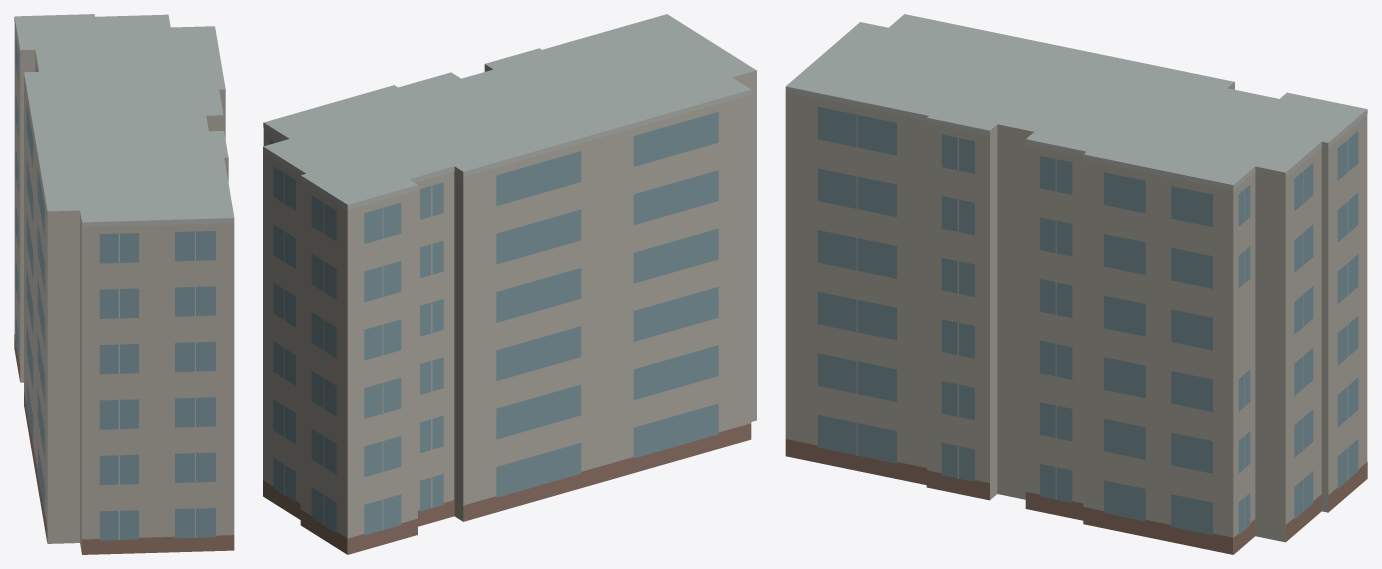
Rendered from survey-upis-32990816.glb.
3 renders of one model, left to right at view 1: azimuth 30°, elevation 25°; view 2: azimuth 150°, elevation 25°; view 3: azimuth 270°, elevation 25°, orthographic. The views are drawn at different scales.
Visible parts, largest first — view 1: survey-upis-32990816.tmp; view 2: survey-upis-32990816.tmp; view 3: survey-upis-32990816.tmp.
Part boxes in pixels (box(x1,y1,x2,y2)): survey-upis-32990816.tmp: box(14, 14, 234, 554); survey-upis-32990816.tmp: box(263, 14, 756, 554); survey-upis-32990816.tmp: box(785, 14, 1367, 554).
Bounding box in the file's own units: 16.59 × 16.7 × 23.83.
